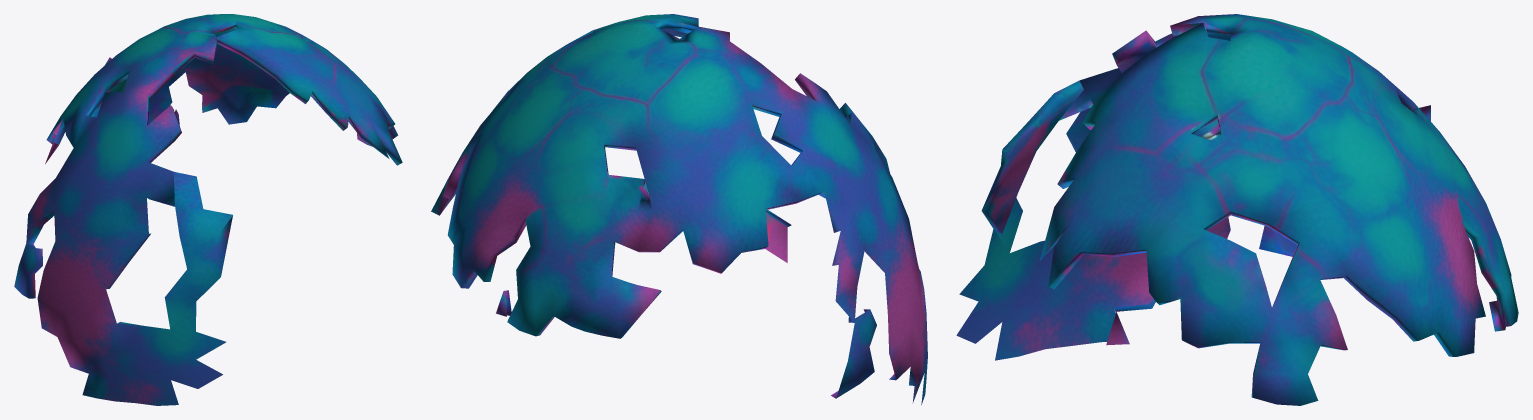
File: cascag.fbx
The picture shows the model from 3 angles, left to right: view 1: azimuth 30°, elevation 25°; view 2: azimuth 150°, elevation 25°; view 3: azimuth 270°, elevation 25°; orthographic projection. The views are drawn at different scales.
Parts seen in each view (by area): view 1: tripo_part_9, tripo_part_3; view 2: tripo_part_9; view 3: tripo_part_9, tripo_part_3.
Part boxes in pixels (x1=…): tripo_part_9: x1=14, y1=14, x2=402, y2=405; tripo_part_3: x1=164, y1=172, x2=232, y2=328; tripo_part_9: x1=431, y1=14, x2=927, y2=404; tripo_part_9: x1=956, y1=14, x2=1518, y2=405; tripo_part_3: x1=981, y1=80, x2=1083, y2=252.
Size of the model in its own units: 0.7028 by 0.5591 by 0.656.
